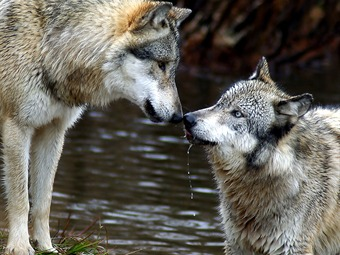Lobo: (29, 2, 192, 232), (190, 40, 329, 240)
